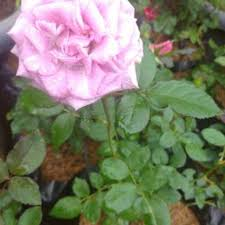rose: (7, 0, 137, 111)
